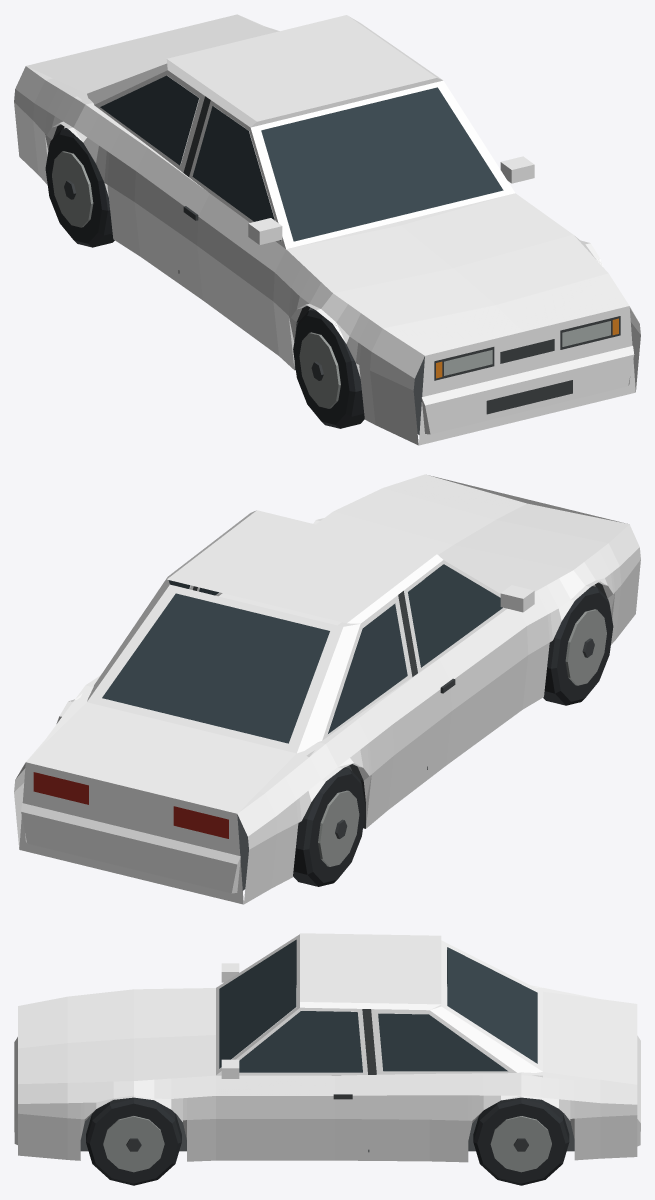
File: hozuki_kohaku.glb
The picture shows the model from 3 angles, top to bottom: view 1: azimuth 30°, elevation 25°; view 2: azimuth 150°, elevation 25°; view 3: azimuth 270°, elevation 25°; orthographic projection. The views are drawn at different scales.
Parts seen in each view (by area): view 1: hozuki_kohaku; view 2: hozuki_kohaku; view 3: hozuki_kohaku.
Boxes of the visible parts, x1,y1,x2,y2 form: hozuki_kohaku: [14, 14, 640, 445]; hozuki_kohaku: [14, 474, 640, 904]; hozuki_kohaku: [14, 933, 640, 1185].
Size of the model in its own units: 1.69 by 1.27 by 4.27.
8 materials, 1 textured.
